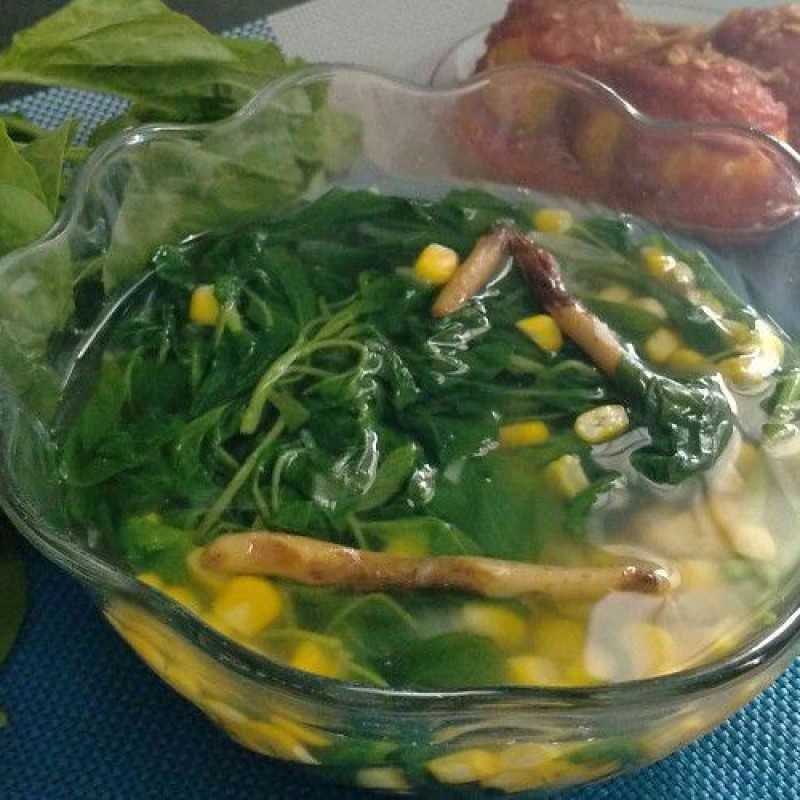Sayur Bayam: (39, 200, 756, 676)
